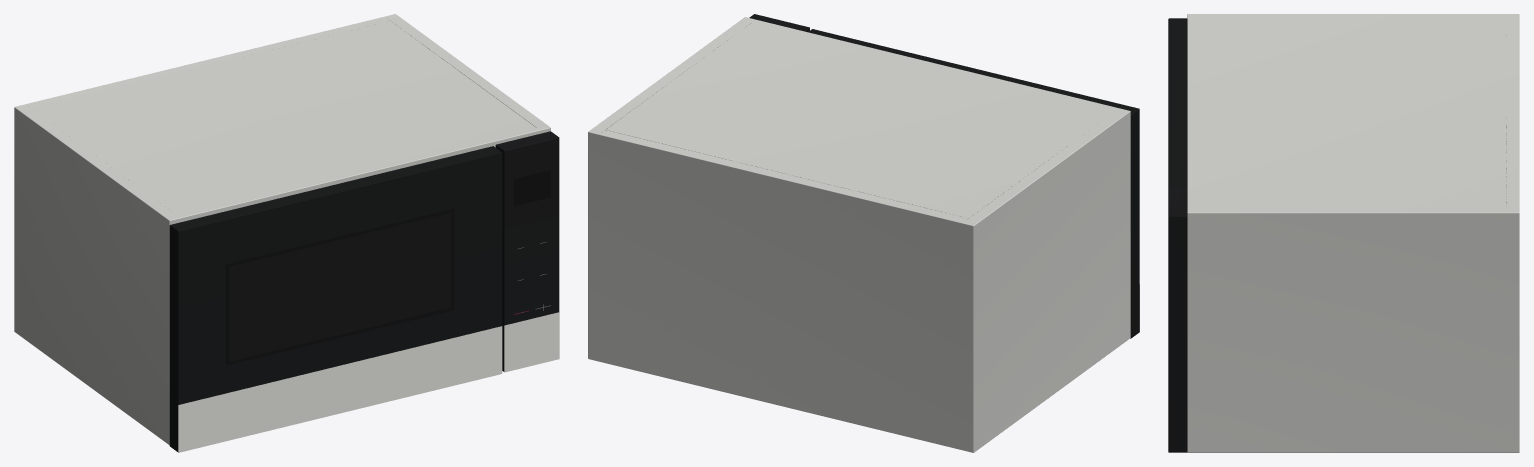
The model's file is MWE25-b34-83c169.glb.
3 renders of one model, left to right at view 1: azimuth 30°, elevation 25°; view 2: azimuth 150°, elevation 25°; view 3: azimuth 270°, elevation 25°, orthographic. The views are drawn at different scales.
Parts seen in each view (by area): view 1: BodyShell, DoorBody, WindowMesh, LowerControlWhiteEstimate, ControlPanel, WindowSurround, ControlDisplay; view 2: BodyShell, DoorBody; view 3: BodyShell, ControlPanel, DoorBody.
Part boxes in pixels (x1,y1,x2,y2): BodyShell: (14, 14, 550, 444); DoorBody: (169, 146, 502, 452); WindowMesh: (229, 213, 450, 361); LowerControlWhiteEstimate: (178, 312, 559, 452); ControlPanel: (495, 131, 559, 371); WindowSurround: (226, 208, 454, 365); ControlDisplay: (513, 170, 550, 206); BodyShell: (588, 17, 1130, 452); DoorBody: (808, 29, 1139, 338); BodyShell: (1187, 14, 1519, 452); ControlPanel: (1168, 187, 1187, 452); DoorBody: (1168, 18, 1187, 187).
Size of the model in its own units: 0.476 by 0.272 by 0.355.
11 materials, 1 textured.
